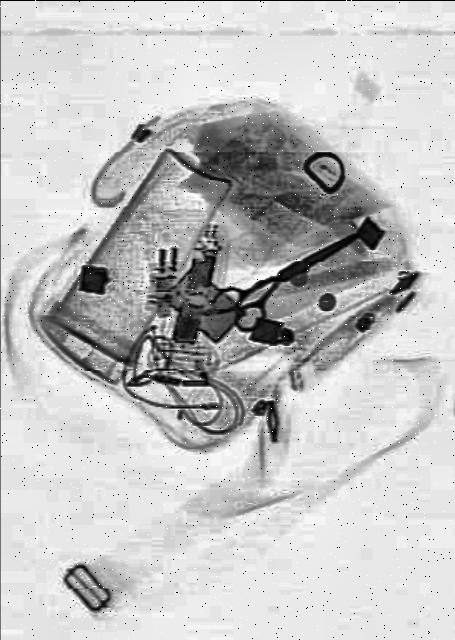Scissors: (206, 206, 370, 350)
